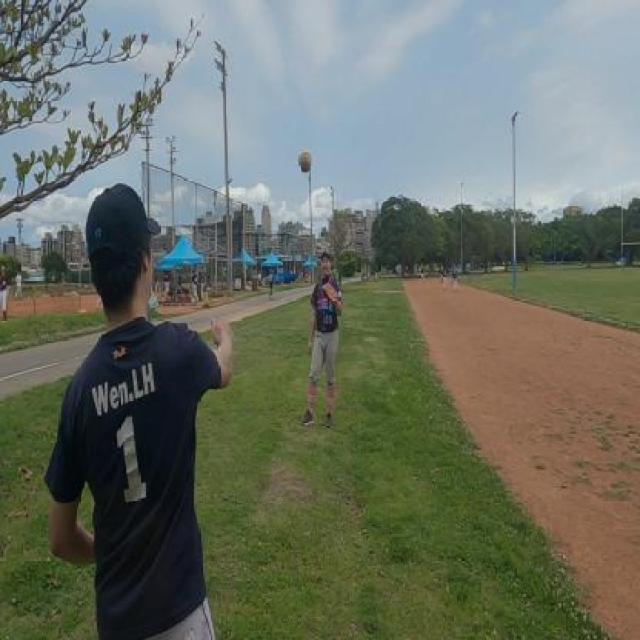baseball: (298, 150, 312, 173)
